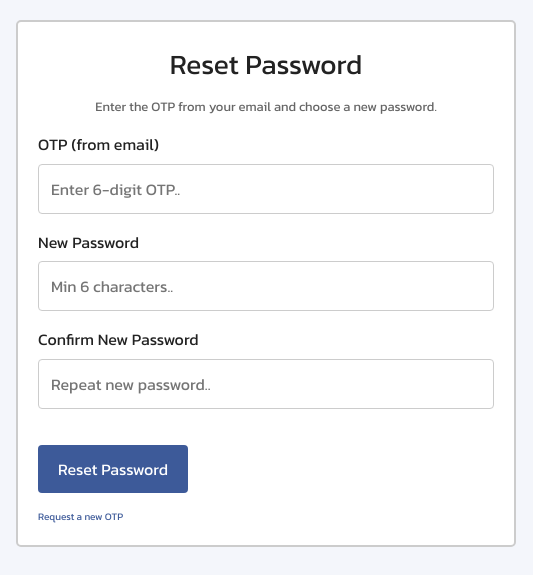
Test: ResetPassword — validation › shows error when confirm password is empty
The image size is (533, 575).
Type "123456" into the field with placeholder "Enter 6-digit OTP.." at (266, 188), box [38,164,494,214]
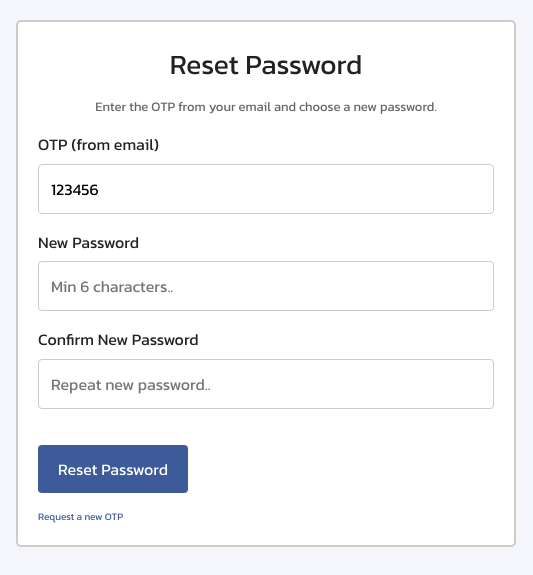
Type "newpass1" into the password field with placeholder "Min 6 characters.." at (266, 286), box [38,261,494,311]
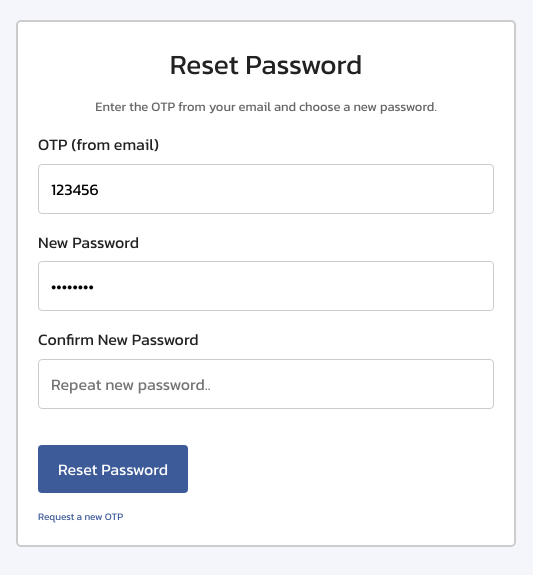
Click the button showing "Reset Password" at (113, 469), box [38,445,188,493]
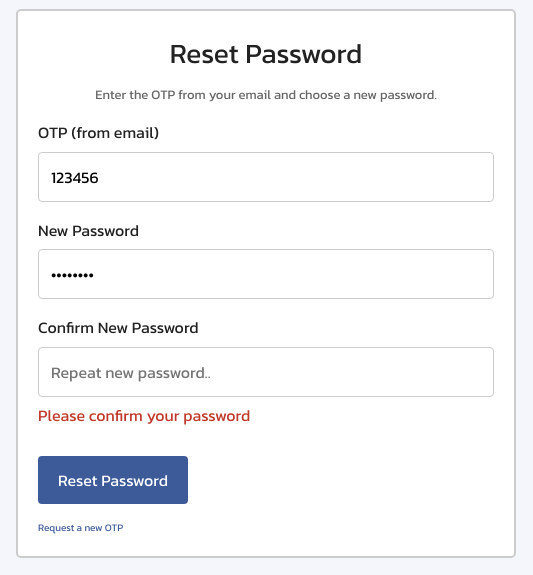
Expected: the text "Please confirm your password" is shown, [38,403,250,427]
